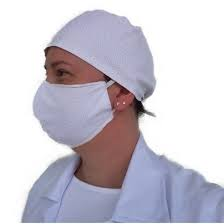with_mask_and_cap: (33, 11, 132, 142)
